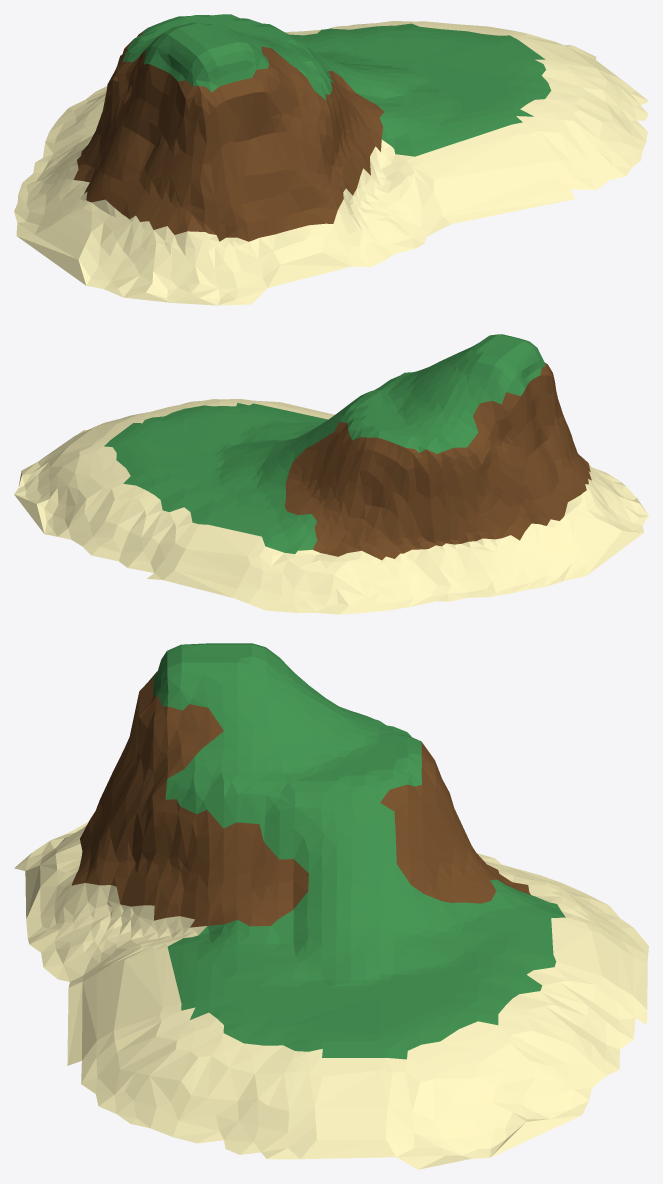
Rendered from islandNew2.fbx.
3 views of the same model, one above another, from view 1: azimuth 30°, elevation 25°; view 2: azimuth 150°, elevation 25°; view 3: azimuth 270°, elevation 25° (orthographic). The views are drawn at different scales.
Visible parts, largest first — view 1: Plane.002; view 2: Plane.002; view 3: Plane.002.
Boxes of the visible parts, x1,y1,x2,y2 form: Plane.002: [14, 14, 648, 305]; Plane.002: [14, 334, 648, 614]; Plane.002: [14, 643, 648, 1169].
Size of the model in its own units: 1916 by 589 by 1413.
